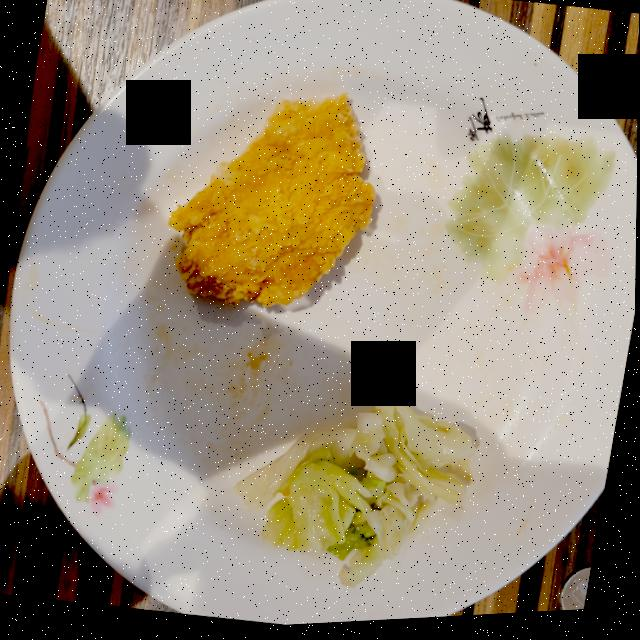cabbage: (237, 378, 476, 592)
coin: (562, 573, 593, 617)
fried chicken cutlet: (169, 97, 375, 310)
